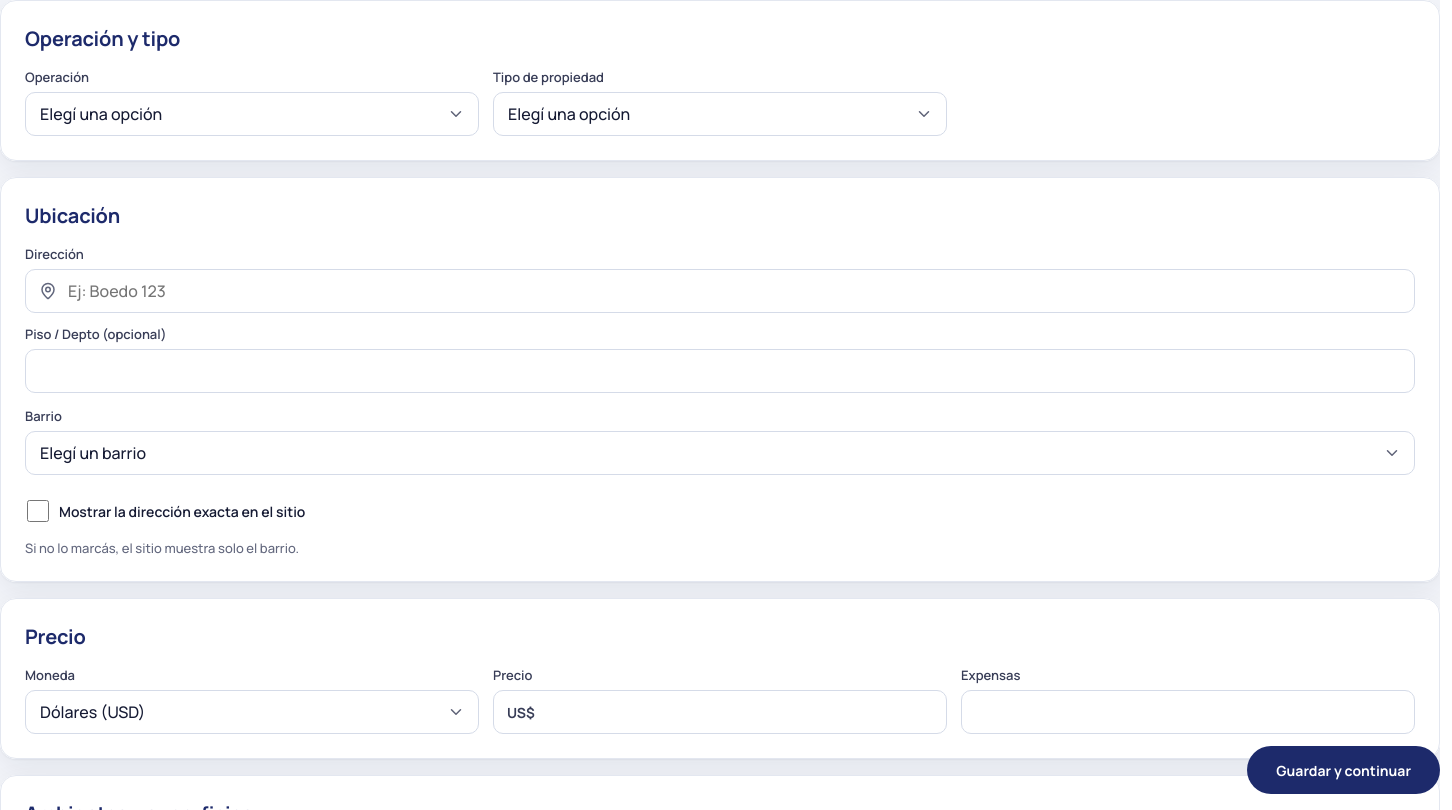
Scenario: PropertyForm step datos › lists the fetched neighborhoods in the barrio dropdown
Click the dropdown labelled "barrio" at (93,453), box [25,431,1415,475]
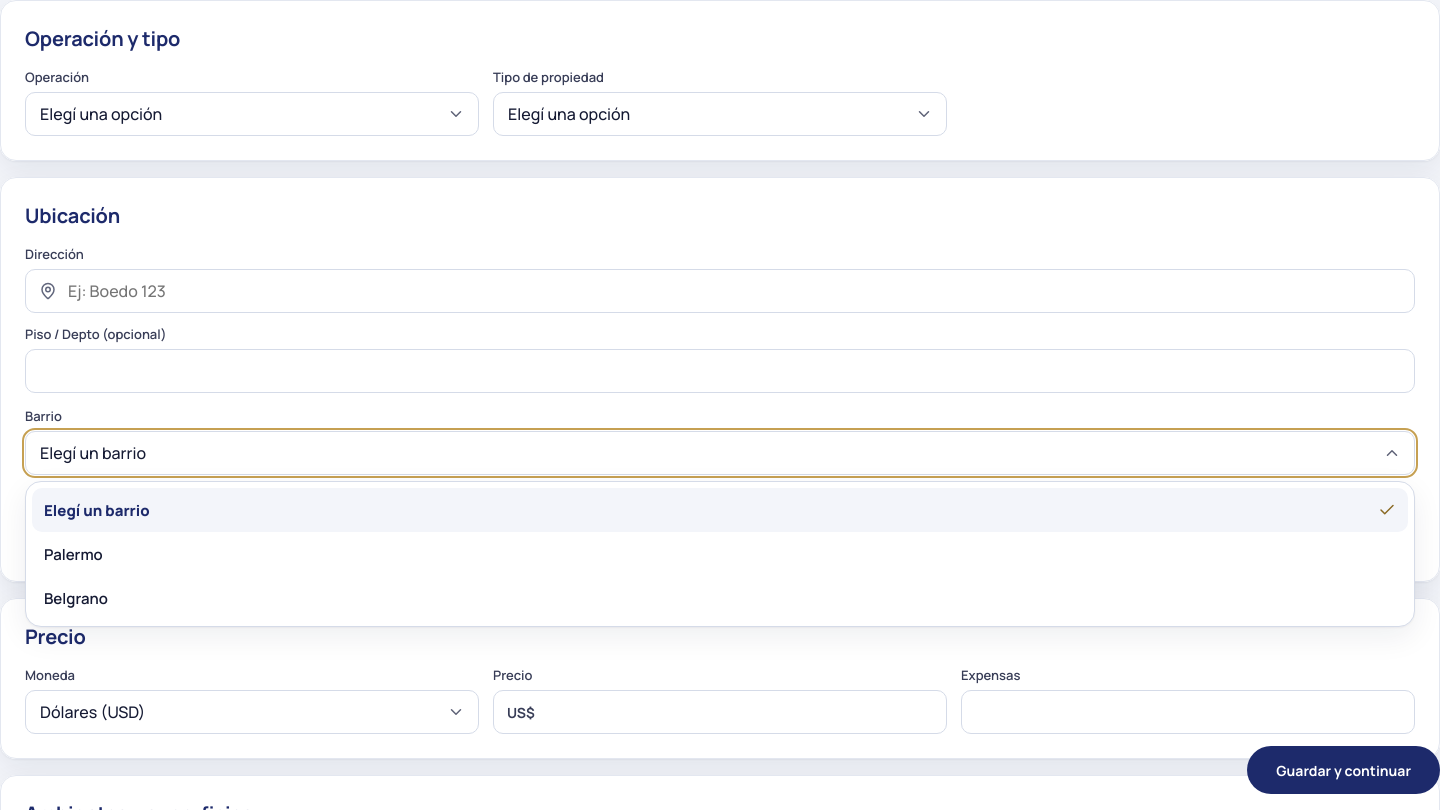
expect the option "Palermo" is shown: met, box [44,544,103,564]
expect the option "Belgrano" is shown: met, box [44,588,108,608]
